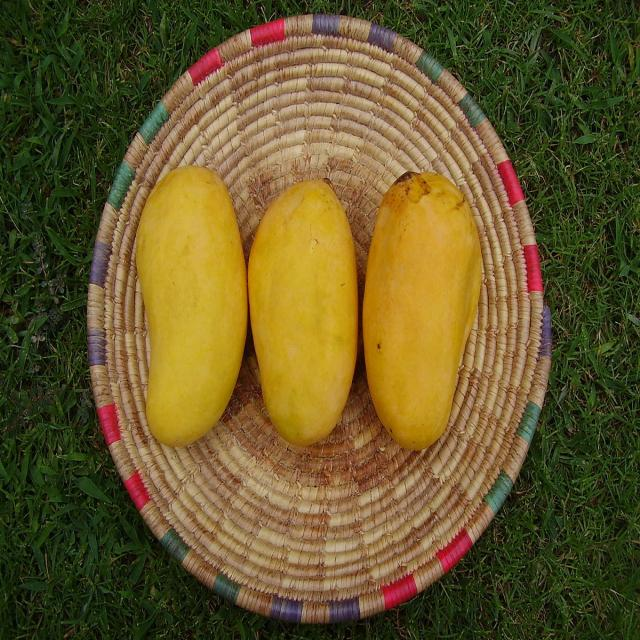mango: (130, 167, 246, 471), (362, 171, 483, 452), (247, 178, 361, 447)
